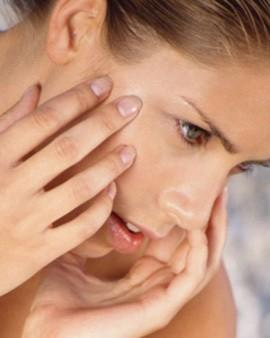Oily-Skin: (127, 61, 211, 154), (159, 148, 230, 236)
